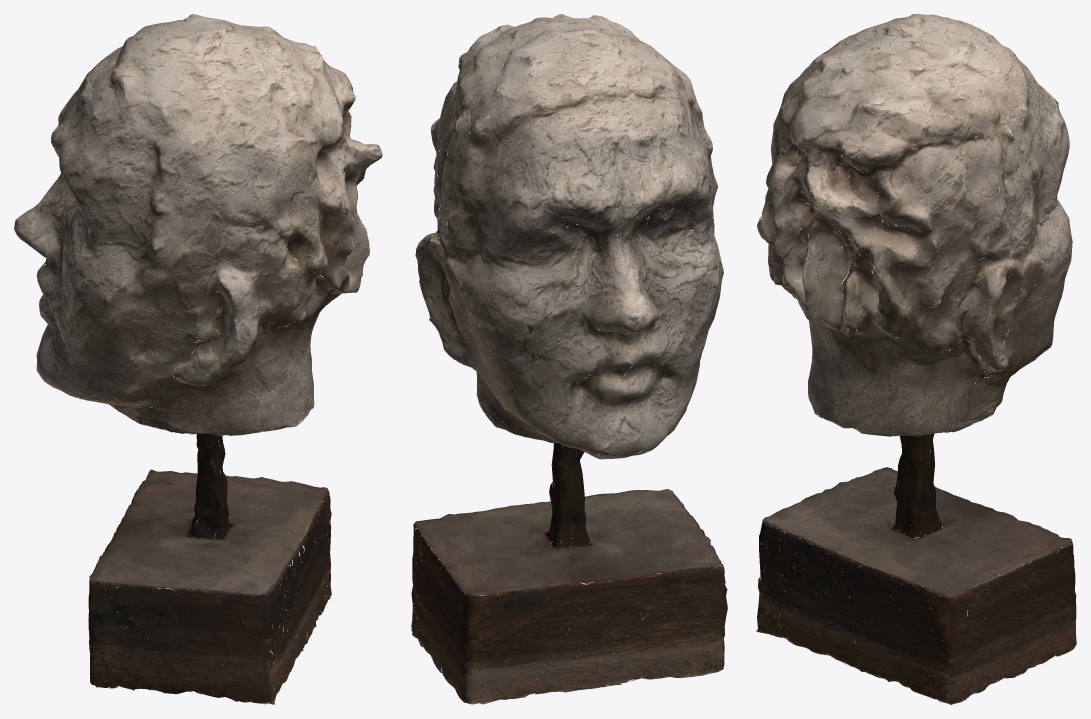
3 renders of one model, left to right at view 1: azimuth 30°, elevation 25°; view 2: azimuth 150°, elevation 25°; view 3: azimuth 270°, elevation 25°, orthographic.
Parts seen in each view (by area): view 1: Mesh_0_Part_0; view 2: Mesh_0_Part_0; view 3: Mesh_0_Part_0.
Part boxes in pixels (box(x1,y1,x2,y2)): Mesh_0_Part_0: box(14, 14, 382, 704); Mesh_0_Part_0: box(411, 14, 727, 704); Mesh_0_Part_0: box(756, 14, 1076, 704).
Size of the model in its own units: 1.88 by 3.95 by 1.89.
Materials: 1 (1 with a texture image).
